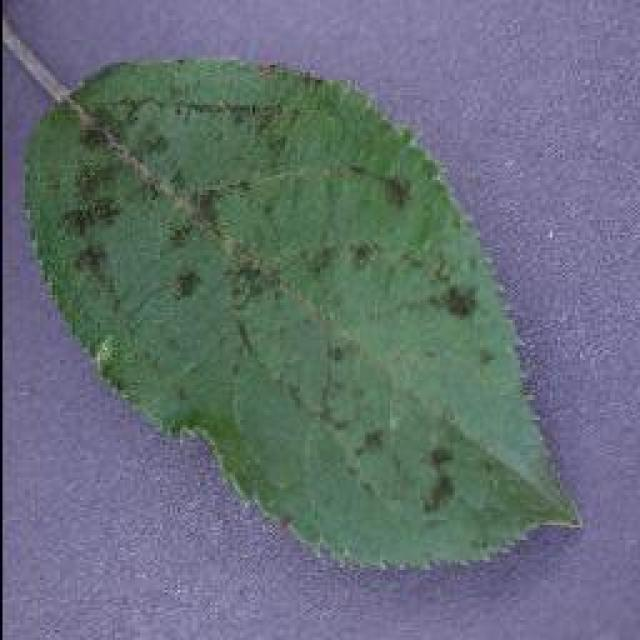apple scab disease: (20, 52, 585, 572)
